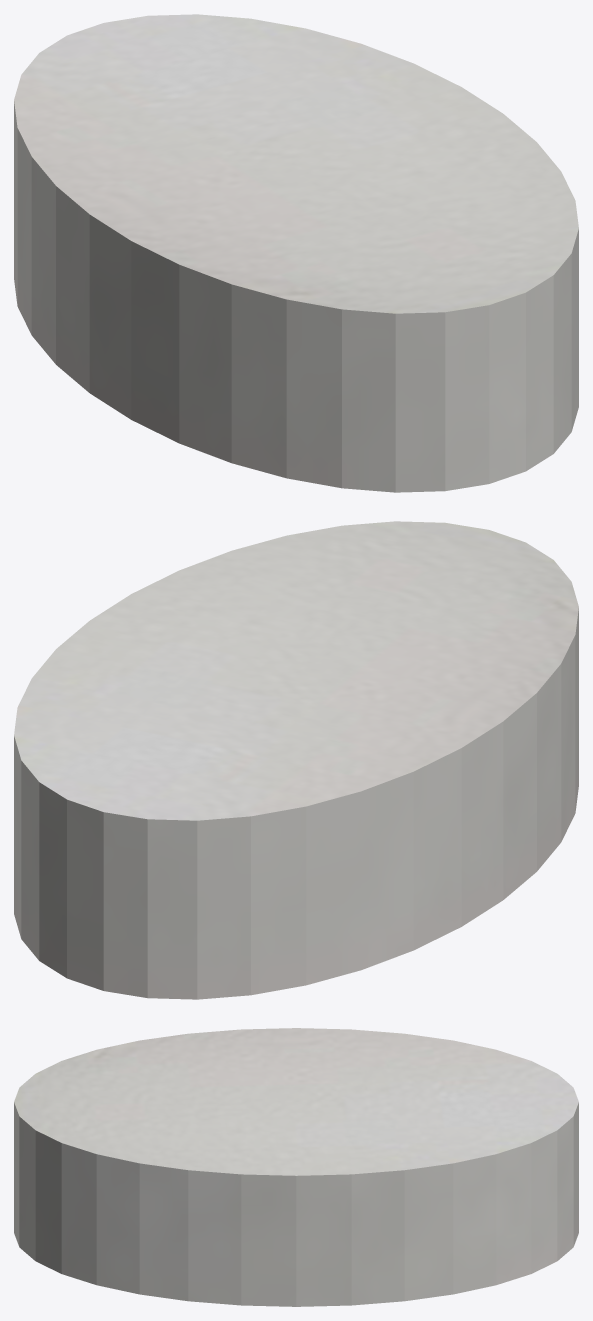
3 renders of one model, top to bottom at view 1: azimuth 30°, elevation 25°; view 2: azimuth 150°, elevation 25°; view 3: azimuth 270°, elevation 25°, orthographic. The views are drawn at different scales.
Parts seen in each view (by area): view 1: 圓柱體; view 2: 圓柱體; view 3: 圓柱體.
Boxes of the visible parts, x1,y1,x2,y2 form: 圓柱體: (14,14,578,492); 圓柱體: (14,521,578,999); 圓柱體: (14,1028,578,1306).
Bounding box in the file's own units: 0.0809 × 0.0335 × 0.1307.
